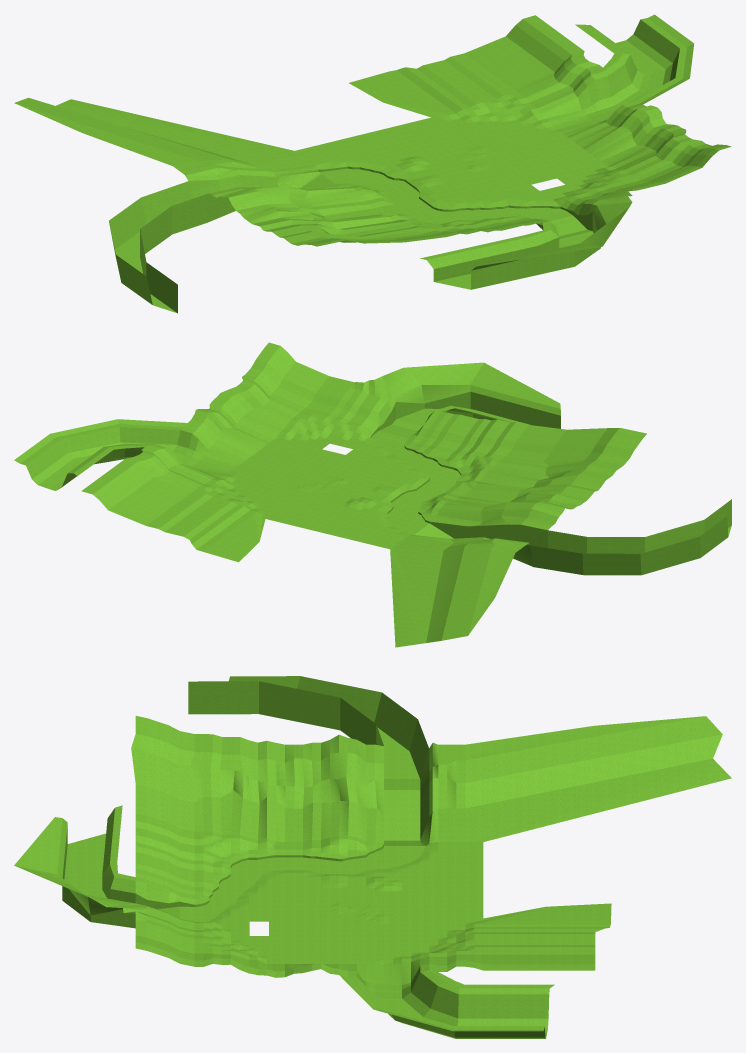
File: WestmontonGround.fbx
3 views of the same model, one above another, from view 1: azimuth 30°, elevation 25°; view 2: azimuth 150°, elevation 25°; view 3: azimuth 270°, elevation 25° (orthographic). The views are drawn at different scales.
Parts seen in each view (by area): view 1: Ground; view 2: Ground; view 3: Ground.
Boxes of the visible parts, x1=… form: Ground: x1=14, y1=14, x2=731, y2=313; Ground: x1=14, y1=342, x2=731, y2=647; Ground: x1=14, y1=676, x2=731, y2=1038.
Bounding box in the file's own units: 73806 × 7251 × 62222.
